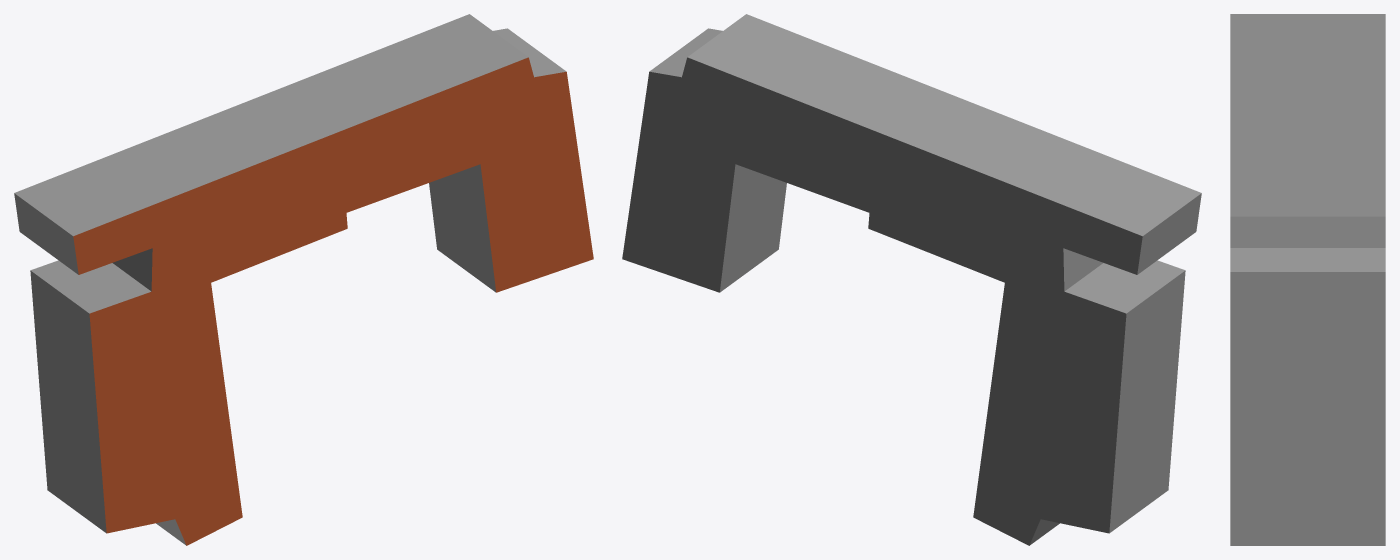
File: construction_2295_assumed_A_Casa_h6m.obj
3 views of the same model, side by side, from view 1: azimuth 30°, elevation 25°; view 2: azimuth 150°, elevation 25°; view 3: azimuth 270°, elevation 25° (orthographic). The views are drawn at different scales.
Visible parts, largest first — view 1: construction_2295_assumed_A_Casa; view 2: construction_2295_assumed_A_Casa; view 3: construction_2295_assumed_A_Casa.
Part boxes in pixels (box(x1,y1,x2,y2)): construction_2295_assumed_A_Casa: box(14, 14, 593, 545); construction_2295_assumed_A_Casa: box(622, 14, 1201, 545); construction_2295_assumed_A_Casa: box(1230, 14, 1385, 545).
Bounding box in the file's own units: 30.49 × 22.68 × 6.
